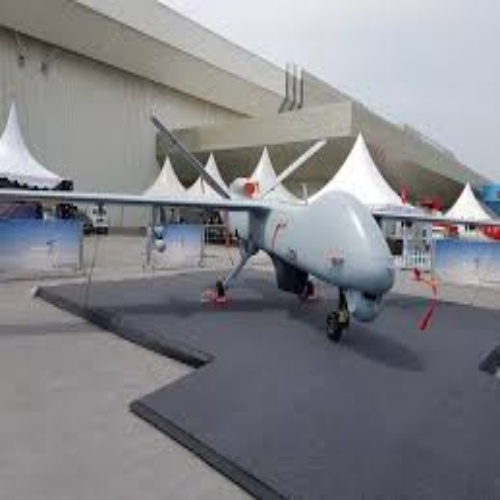uav: (4, 115, 500, 343)
